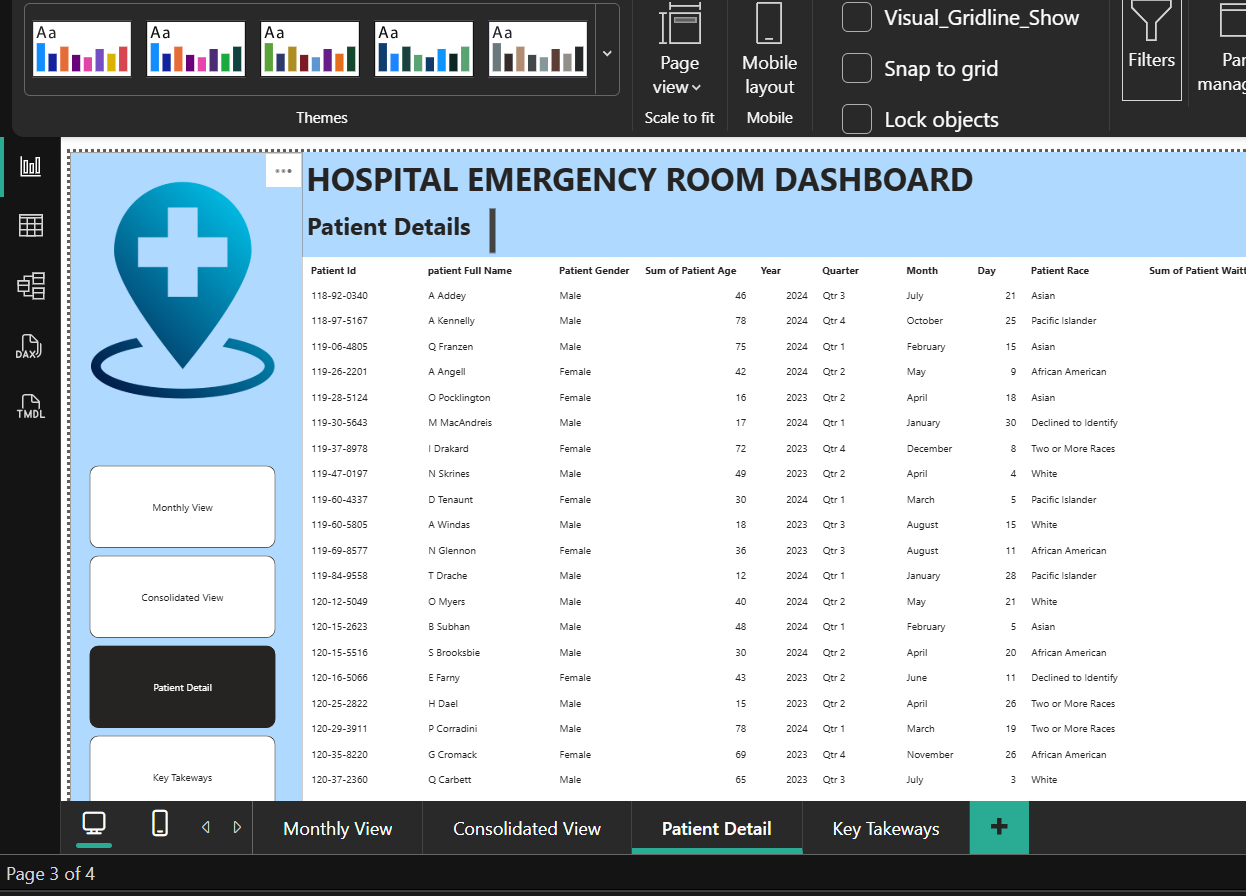

The page's visual inventory and layout, read from the dashboard file:
{"tool":"powerbi","page":{"name":"Patient Detail","canvas":[2300,1400],"ordinal":2},"visuals":[{"type":"shape","box":[0,0,310,1402],"z":0},{"type":"shape","box":[309.2,0,1990.5,140],"z":1000},{"type":"textbox","box":[309.2,0,1990.5,70.9],"z":2000},{"type":"textbox","box":[310,70,262.5,70],"z":3000},{"type":"slicer","fields":{"Values":["Date Table.Date"]},"box":[1921.9,0,353.1,100],"z":4000},{"type":"image","box":[0,34.5,300,300],"z":5000},{"type":"tableEx","fields":{"Values":["Hospital ER_Data.Patient Id","Hospital ER_Data.patient Full Name","Hospital ER_Data.Patient Gender","Sum(Hospital ER_Data.Patient Age)","Hospital ER_Data.Patient Admission Date.Variation.Date Hierarchy.Year","Hospital ER_Data.Patient Admission Date.Variation.Date Hierarchy.Quarter","Hospital ER_Data.Patient Admission Date.Variation.Date Hierarchy.Month","Hospital ER_Data.Patient Admission Date.Variation.Date Hierarchy.Day","Hospital ER_Data.Patient Race","Sum(Hospital ER_Data.Patient Waittime)","Hospital ER_Data.Department Referral","Hospital ER_Data.Admission Statuss"]},"box":[310,140,1990,1260],"z":6000},{"type":"pageNavigator","box":[26,418,248,470],"z":7000}]}

Visuals, with their boxes on the page's 2300x1400 design canvas (x1, y1, x2, y2). These are canvas units, not pixel positions in the 1246x896 screenshot, which may show the page scaled, cropped or inside an application window:
shape: (0, 0, 310, 1402)
shape: (309, 0, 2300, 140)
textbox: (309, 0, 2300, 71)
textbox: (310, 70, 572, 140)
slicer - Date Table.Date: (1922, 0, 2275, 100)
image: (0, 34, 300, 334)
tableEx - Hospital ER_Data.Patient Id x Hospital ER_Data.patient Full Name: (310, 140, 2300, 1400)
pageNavigator: (26, 418, 274, 888)
